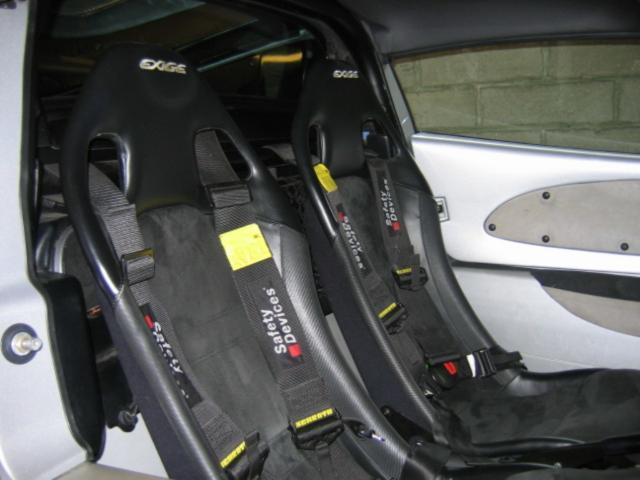Seatbelt: (36, 156, 290, 480), (193, 128, 383, 480), (362, 143, 522, 393), (298, 153, 446, 395)
